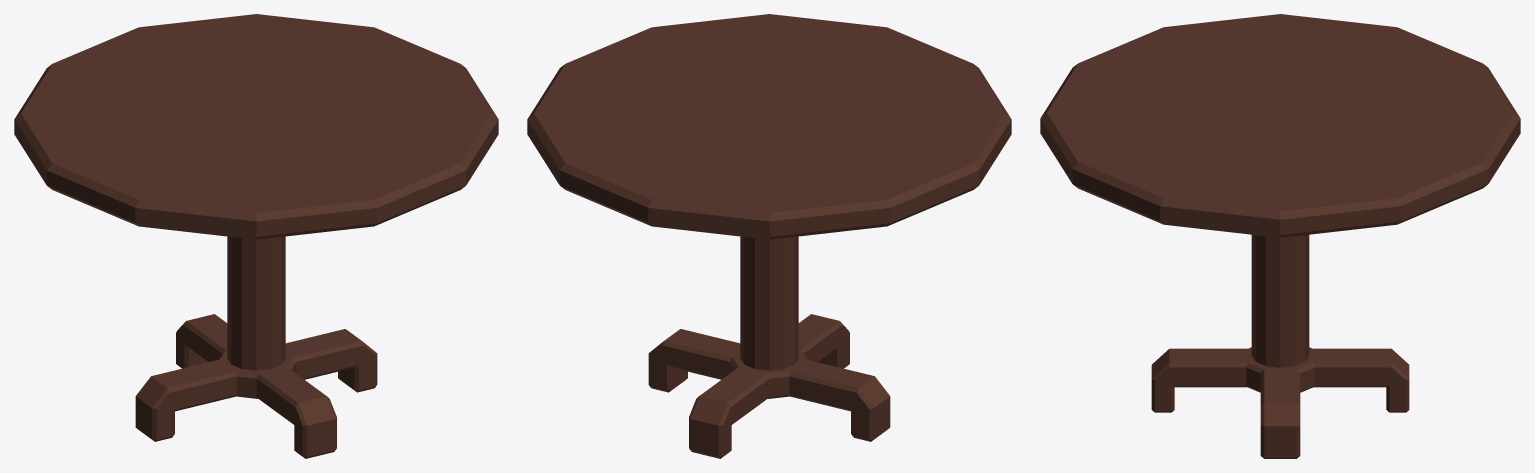
File: Table A-col.glb
The picture shows the model from 3 angles, left to right: view 1: azimuth 30°, elevation 25°; view 2: azimuth 150°, elevation 25°; view 3: azimuth 270°, elevation 25°; orthographic projection.
Visible parts, largest first — view 1: Table A-col; view 2: Table A-col; view 3: Table A-col.
Boxes of the visible parts, x1,y1,x2,y2 form: Table A-col: (14, 14, 498, 458); Table A-col: (527, 14, 1011, 458); Table A-col: (1040, 14, 1520, 458).
Size of the model in its own units: 1.35 by 0.9115 by 1.35.
